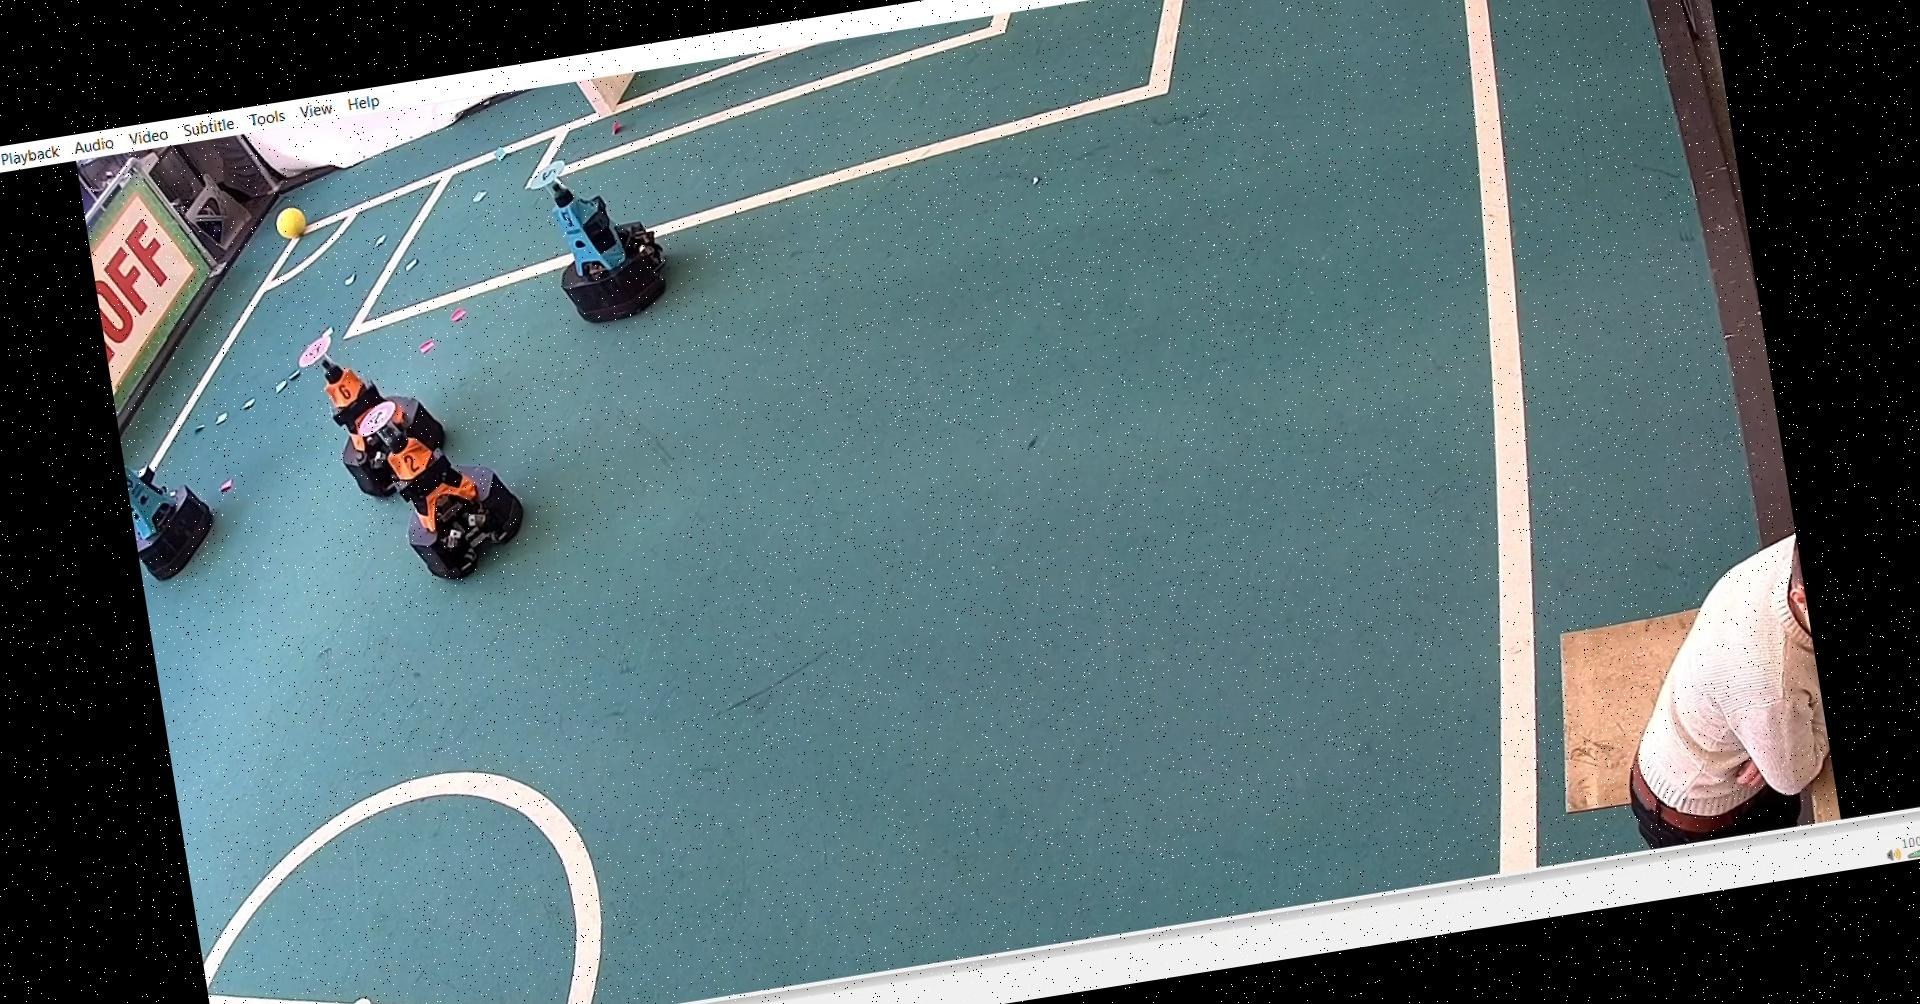Ball: (279, 201, 319, 239)
Team_Blue: (521, 133, 687, 335), (119, 430, 237, 580)
Team_Red: (342, 380, 533, 591), (290, 310, 452, 504)
